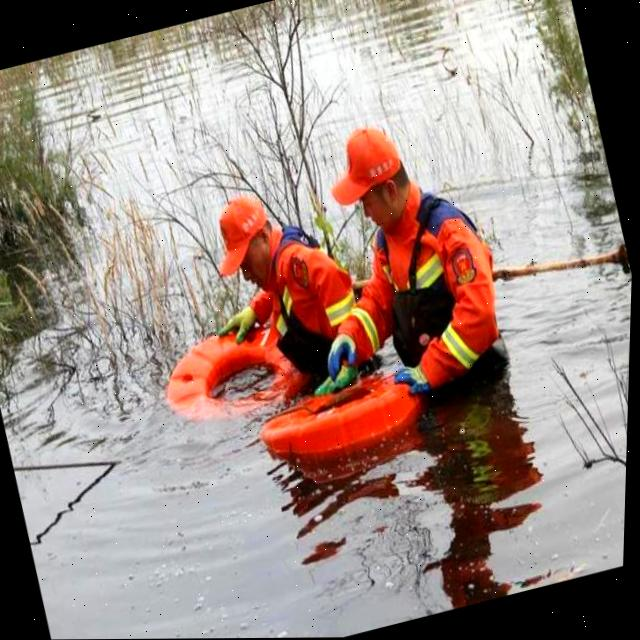rescuer: (299, 92, 542, 426), (182, 162, 386, 433)
